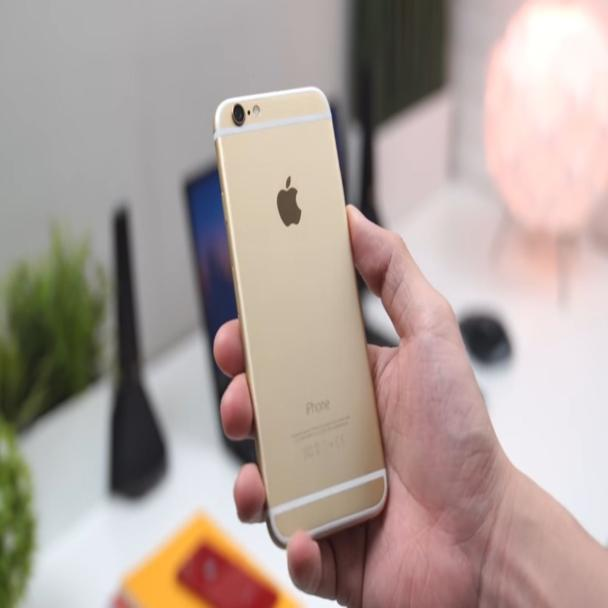Handphone: (213, 85, 390, 546)
